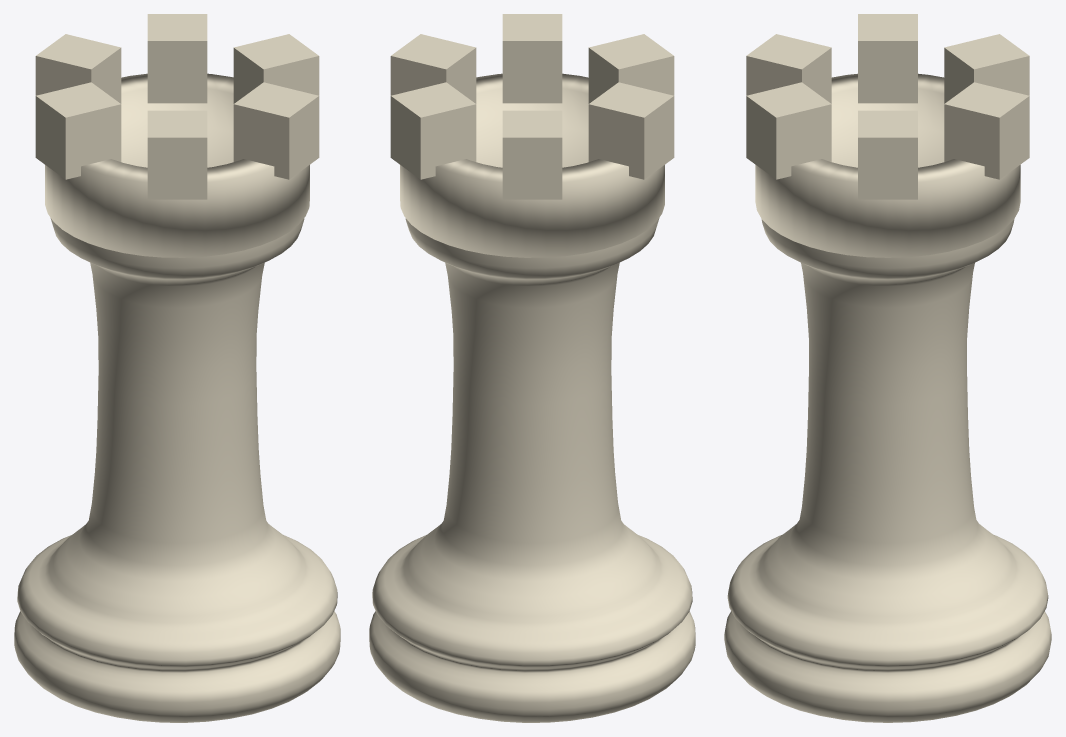
The model's file is white_rook.glb.
3 views of the same model, side by side, from view 1: azimuth 30°, elevation 25°; view 2: azimuth 150°, elevation 25°; view 3: azimuth 270°, elevation 25° (orthographic).
Visible parts, largest first — view 1: white rook; view 2: white rook; view 3: white rook.
Boxes of the visible parts, x1,y1,x2,y2 form: white rook: (14, 14, 340, 722); white rook: (369, 14, 695, 722); white rook: (724, 14, 1051, 722).
Size of the model in its own units: 0.0382 by 0.0763 by 0.0382.
